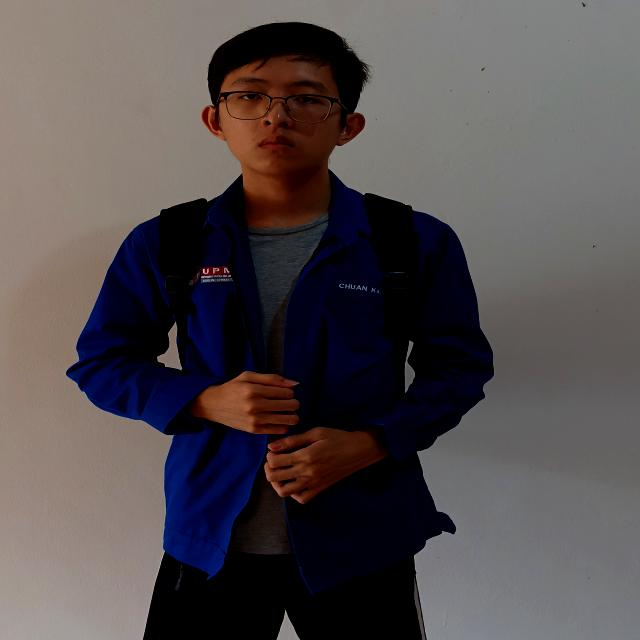person_with_labcoat: (68, 23, 492, 640)
